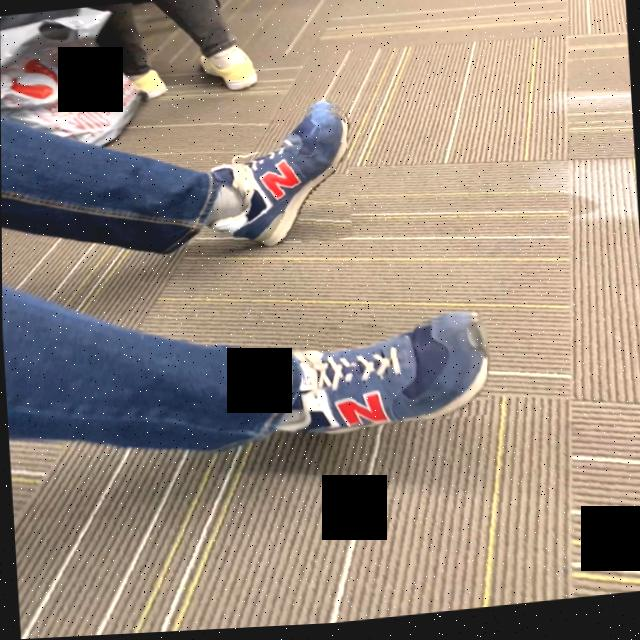shoe: (301, 323, 487, 434), (223, 111, 347, 250)
